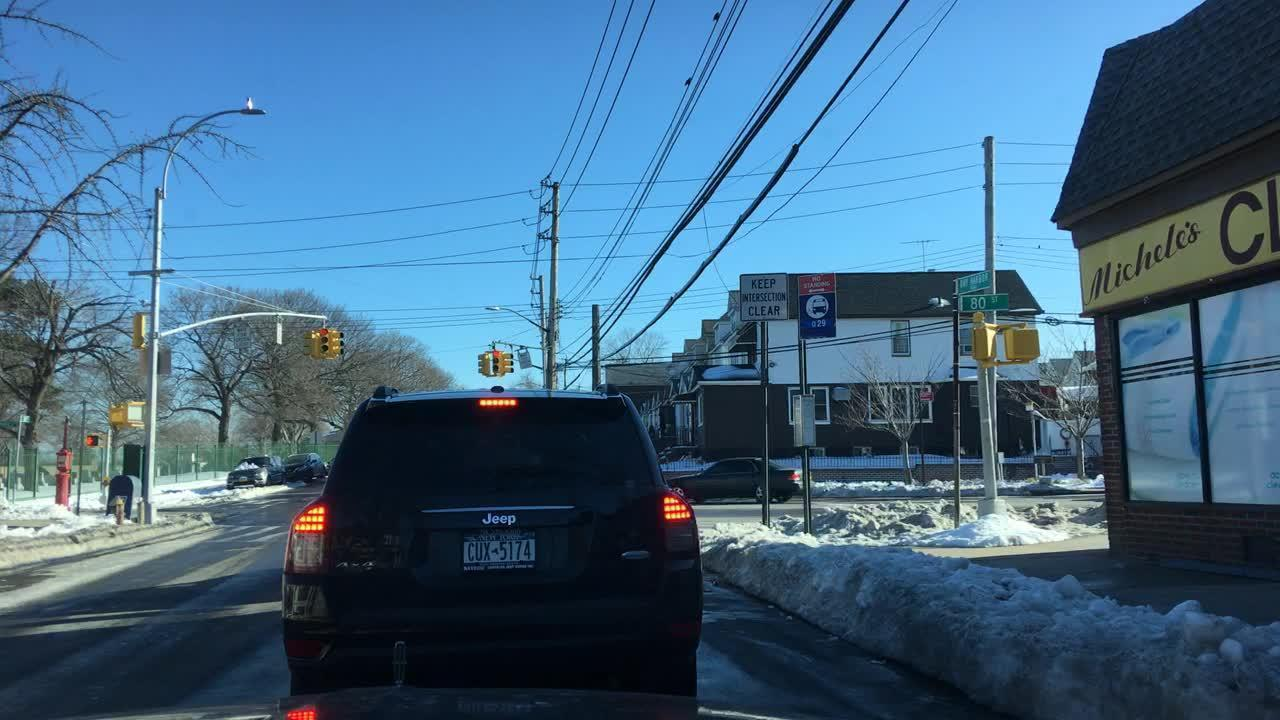jeep: (476, 505, 521, 532)
